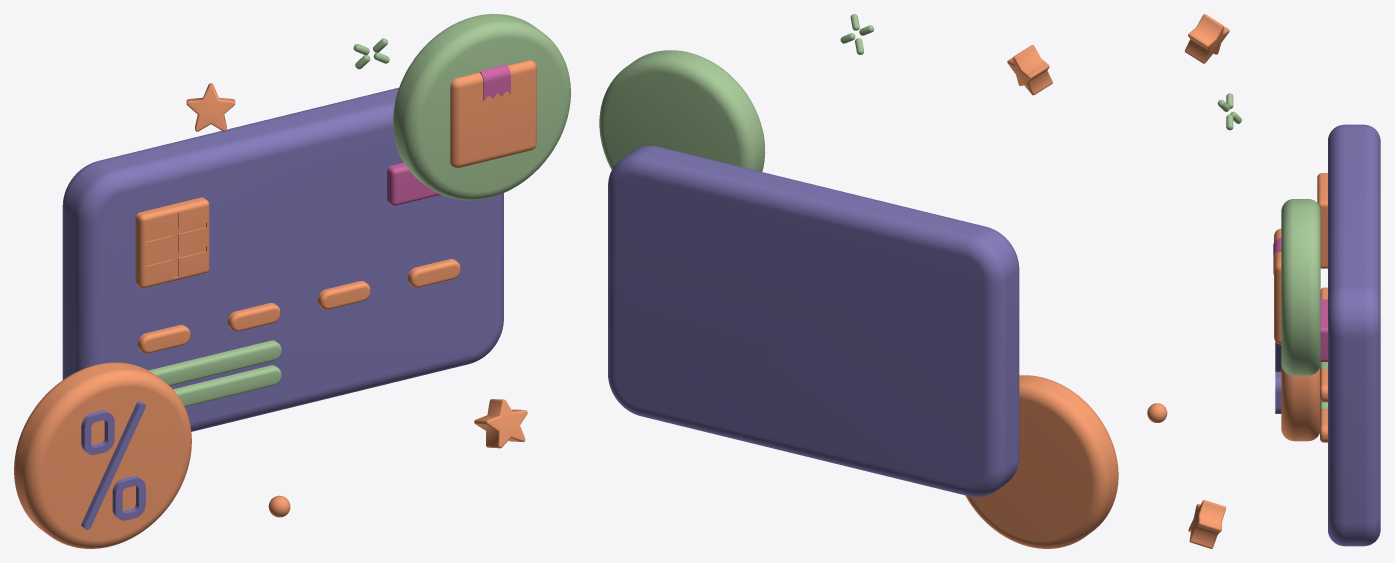
Rendered from loyalty-program-3d-animated-icon-572058466162.glb.
3 renders of one model, left to right at view 1: azimuth 30°, elevation 25°; view 2: azimuth 150°, elevation 25°; view 3: azimuth 270°, elevation 25°, orthographic. The views are drawn at different scales.
Visible parts, largest first — view 1: Cube, Cylinder.001, Cylinder, Cube.005, Cube.003, Cube.001, Cube.006, Curve.003, Curve, Cube.007, Curve.004, Cube.002 (+6 smaller); view 2: Cube, Cylinder.001, Cylinder, Curve.004; view 3: Cube, Cylinder, Cylinder.001, Curve.004, Curve.003, Cube.003, Cube.005, Cube.007, Cylinder.020, Sphere.004, Curve.002.
Part boxes in pixels (x1,y1,x2,y2): Cube: (62, 87, 503, 431); Cylinder.001: (14, 362, 191, 548); Cylinder: (393, 14, 570, 200); Cube.005: (450, 60, 536, 168); Cube.003: (135, 197, 209, 288); Cube.001: (148, 340, 281, 385); Cube.006: (173, 365, 281, 407); Curve.003: (474, 399, 527, 448); Curve: (81, 401, 145, 529); Cube.007: (387, 162, 440, 205); Curve.004: (186, 83, 235, 131); Cube.002: (137, 324, 190, 353); Cube: (608, 145, 1019, 497); Cylinder.001: (965, 375, 1118, 548); Cylinder: (599, 50, 765, 171); Curve.004: (1007, 45, 1052, 95); Cube: (1328, 124, 1380, 546); Cylinder: (1281, 199, 1320, 375); Cylinder.001: (1281, 365, 1319, 441); Curve.004: (1185, 14, 1229, 63); Curve.003: (1188, 500, 1225, 548); Cube.003: (1317, 173, 1327, 268); Cube.005: (1274, 228, 1281, 344); Cube.007: (1320, 299, 1327, 361); Cylinder.020: (1217, 93, 1241, 130); Sphere.004: (1147, 403, 1167, 422); Curve.002: (1275, 371, 1281, 413).
Bounding box in the file's own units: 1.91 × 1.61 × 0.7697.
